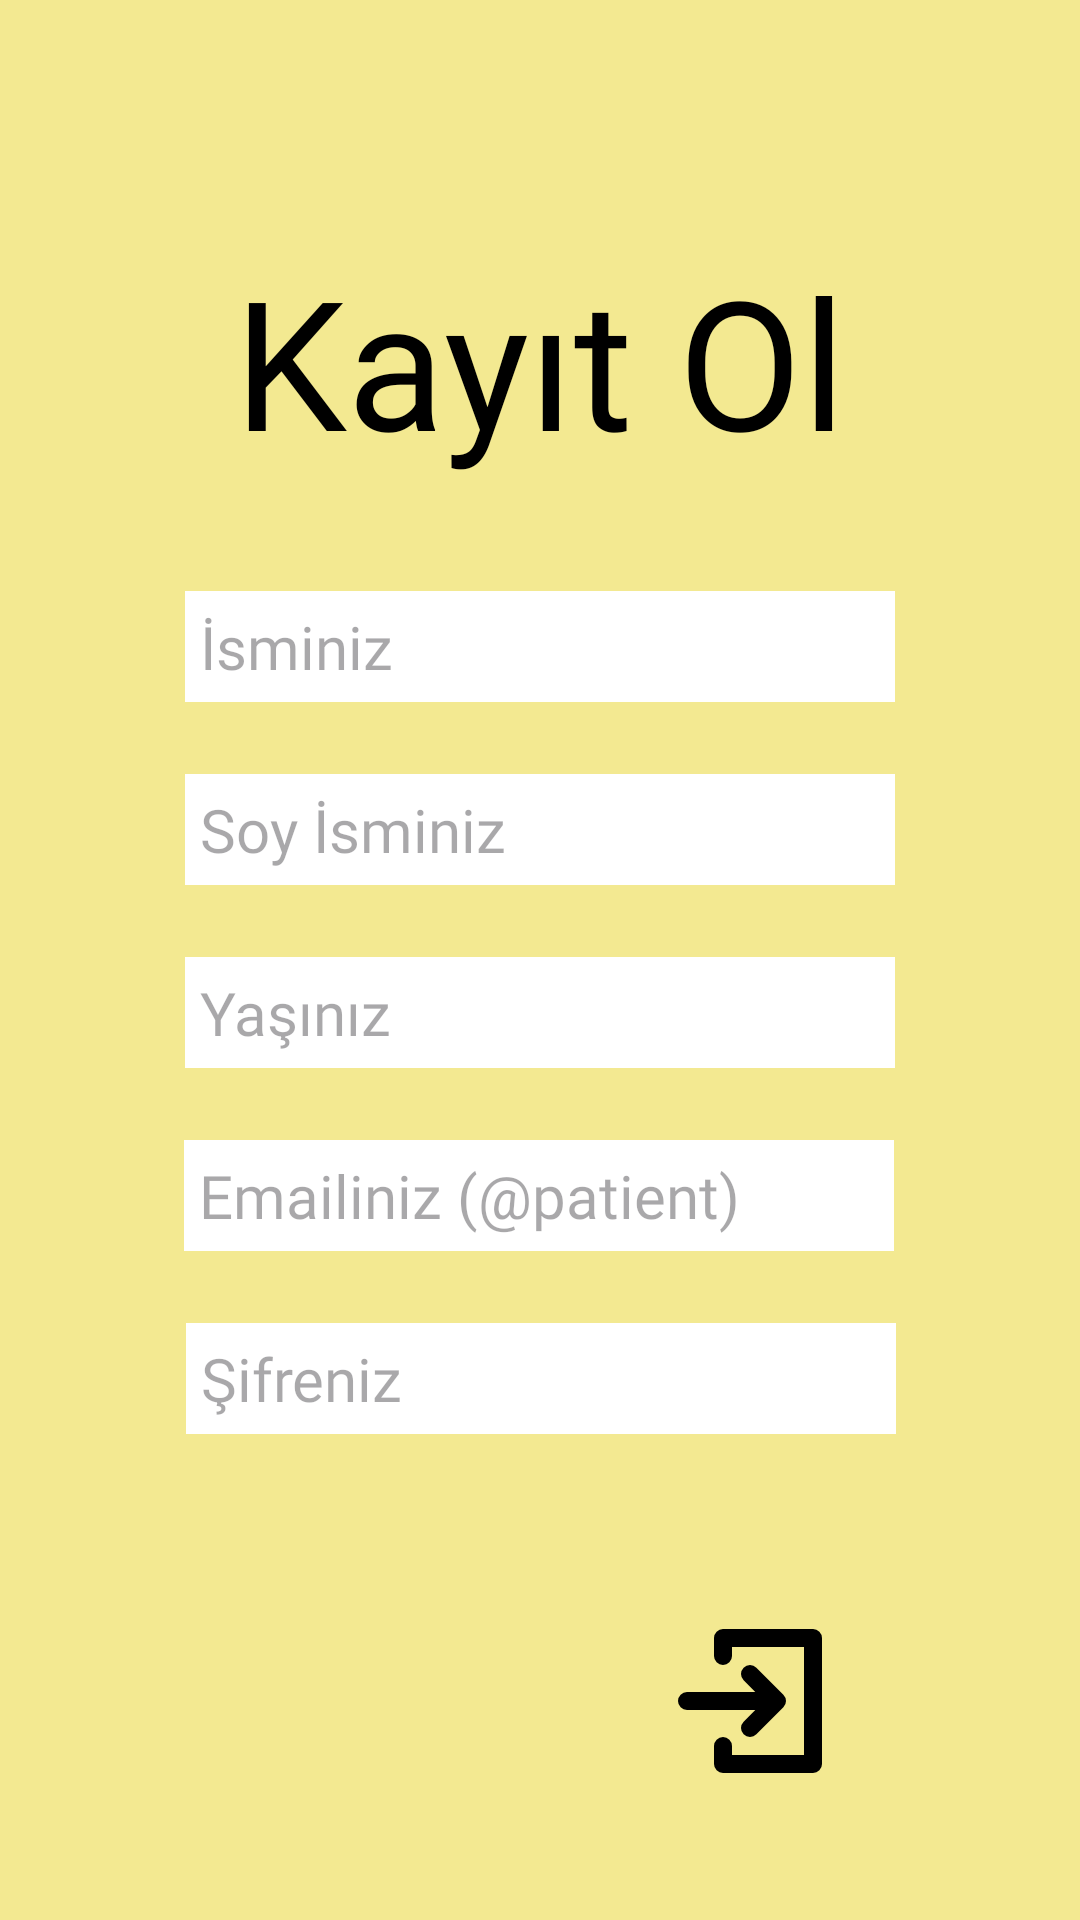

Screen size 1080×1920. Icon name, then its box in pixels as (x1, y1, x2, y2):
login: (678, 1629, 822, 1773)
